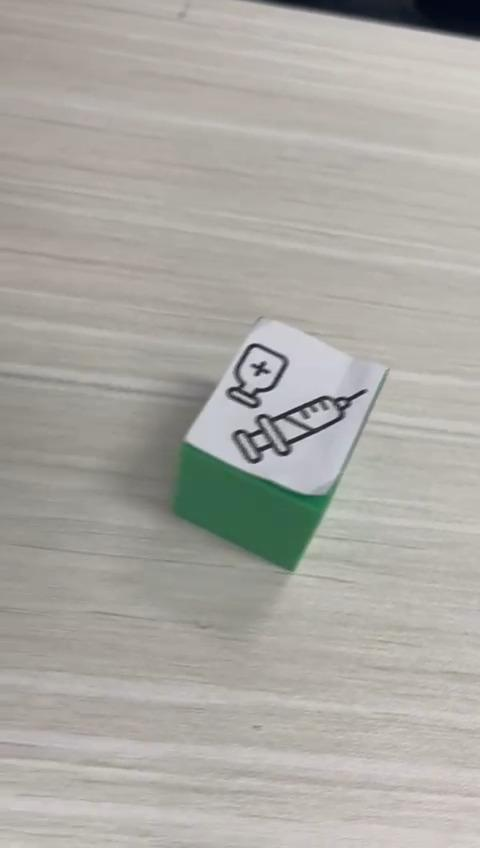antiseptic cream: (170, 314, 390, 573)
